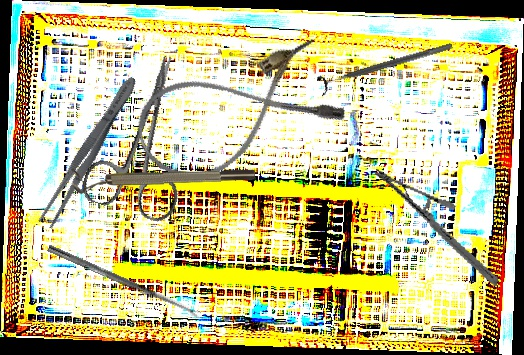Cannula: (125, 32, 350, 194)
Dressing Forceps: (35, 72, 143, 231)
Fixation Ring: (315, 35, 456, 97), (71, 165, 256, 195)
Iris Scissors: (78, 43, 217, 226)
Needle Holder: (355, 167, 518, 287)
Surgical Spoon: (46, 244, 202, 320)
